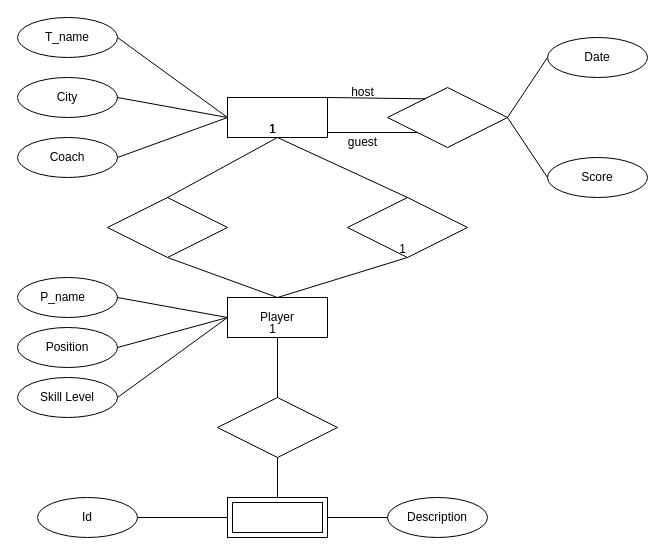
Some shapes in this 665 by 555 pixel diagram are drawn without their labels. The box of each missing label's shape, as (x1, y1, x2, y2) in pixels:
Belongs to: (106, 196, 228, 258)
Captaiin: (346, 196, 468, 258)
Game: (386, 86, 508, 148)
Injury Record: (226, 496, 328, 538)
Log: (216, 396, 338, 458)
Team: (226, 96, 328, 138)
